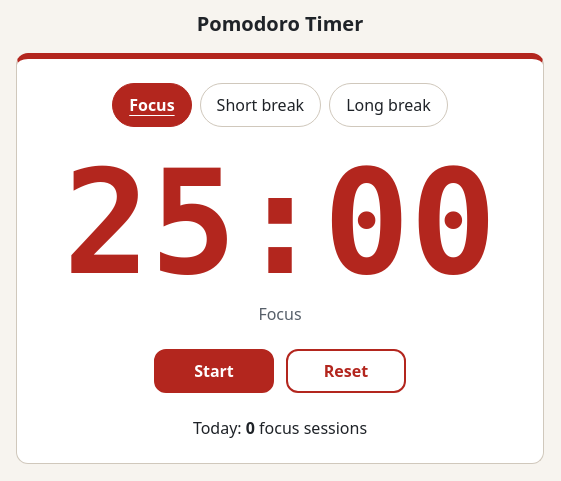
Test case: S1 Start, pause and reset › after Pause the display does not change for 10 s; Start resumes from the paused time
Later steps or results of the test are not shown.
What coordinates should you click on to do the following:
click the button "Start"
I would click on:
 (214, 371)
Its box is [154,349,274,393].
Wait 3000 ms
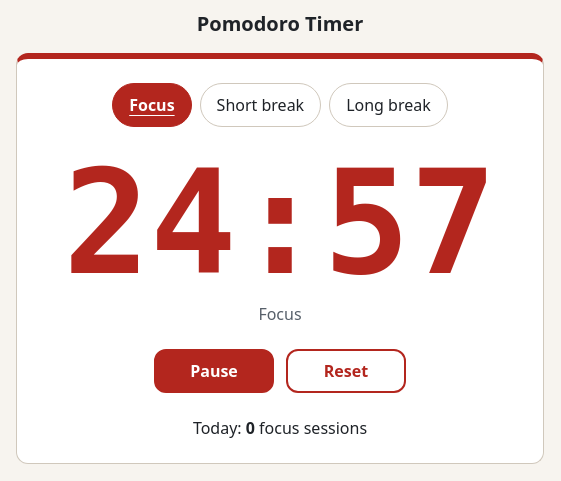
What coordinates should you click on to do the following:
click the button "Pause"
I would click on:
 (214, 371)
Its box is [154,349,274,393].
Wait 10000 ms
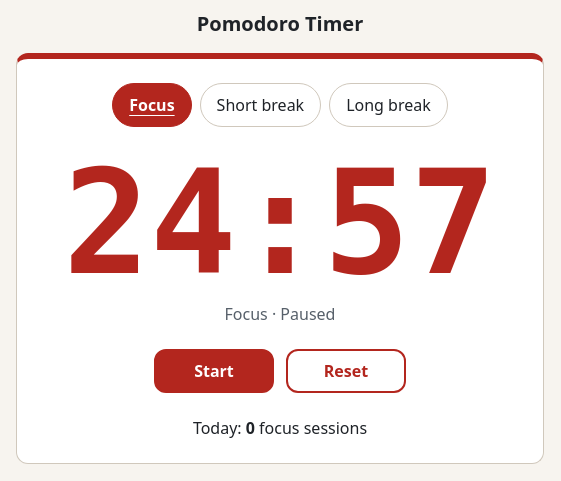
Check: the text "Focus · Paused" is shown, box [224,303,335,325]
